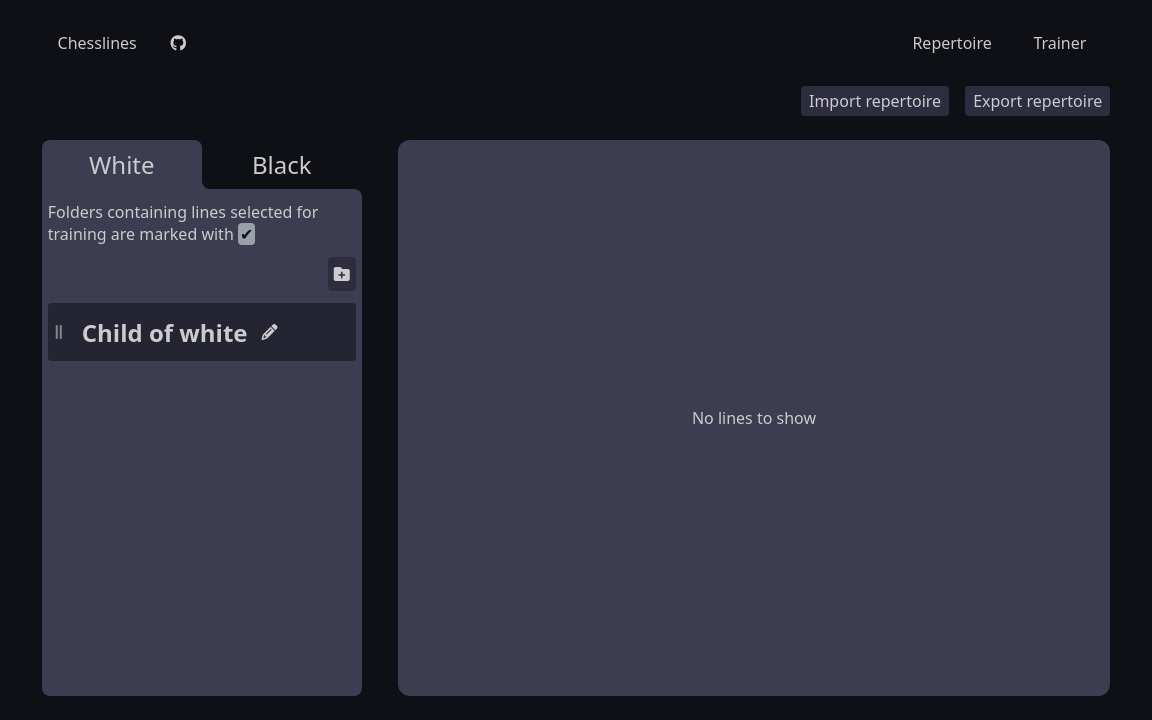
Test: Initial elements › Renders "(2)" in header trainer page link if 2 lines selected
Click the button named "open child of white folder in lines panel".
click(213, 332)  # box x1=70 y1=303 x2=356 y2=361
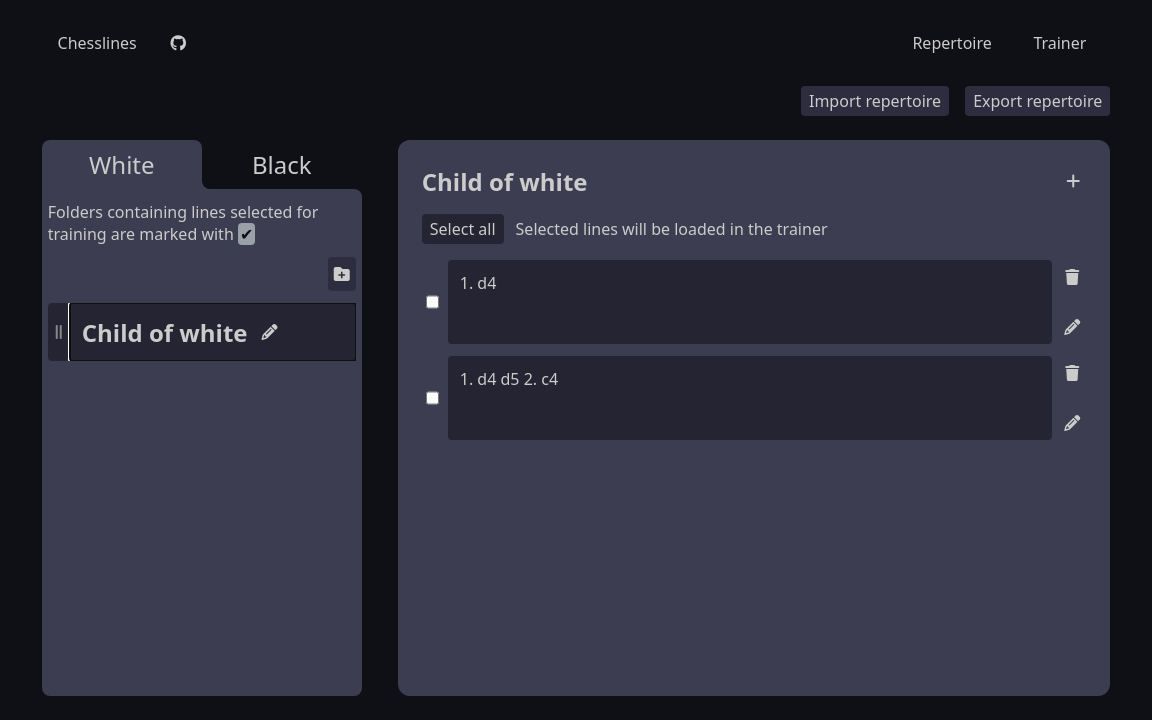
Click the checkbox next to "1. d4 d5 2. c4".
click(432, 398)  # box x1=426 y1=359 x2=439 y2=437
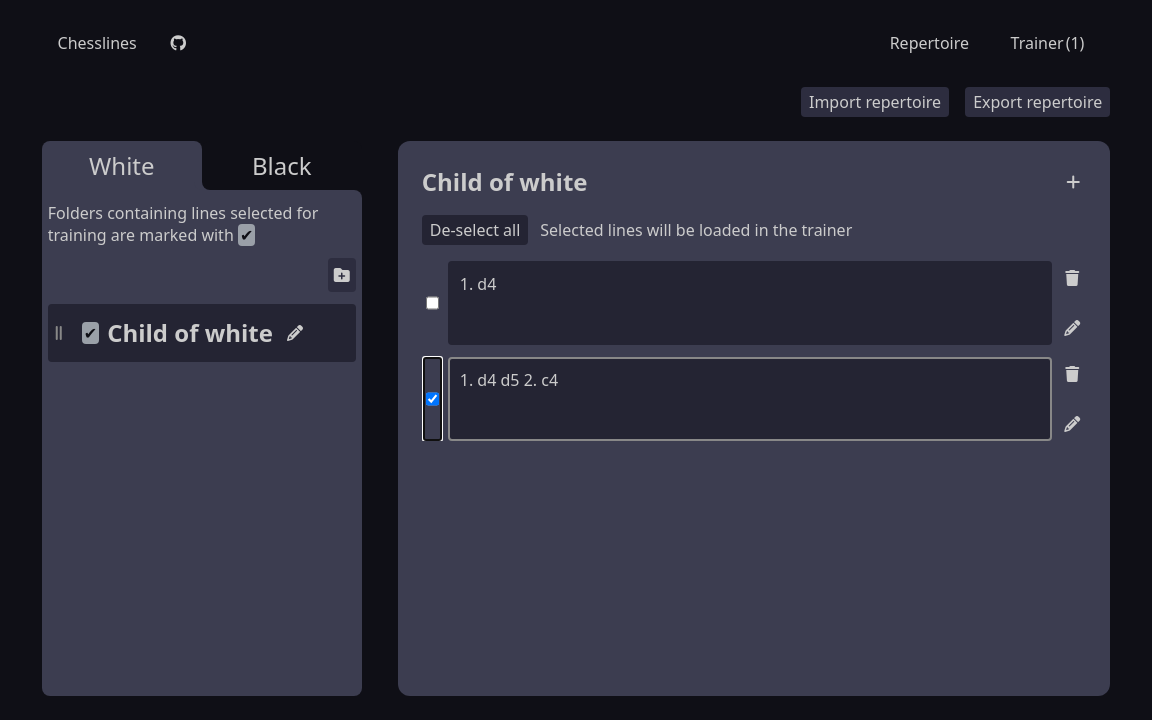
Click the 1st checkbox.
click(432, 303)  # box x1=426 y1=264 x2=439 y2=342
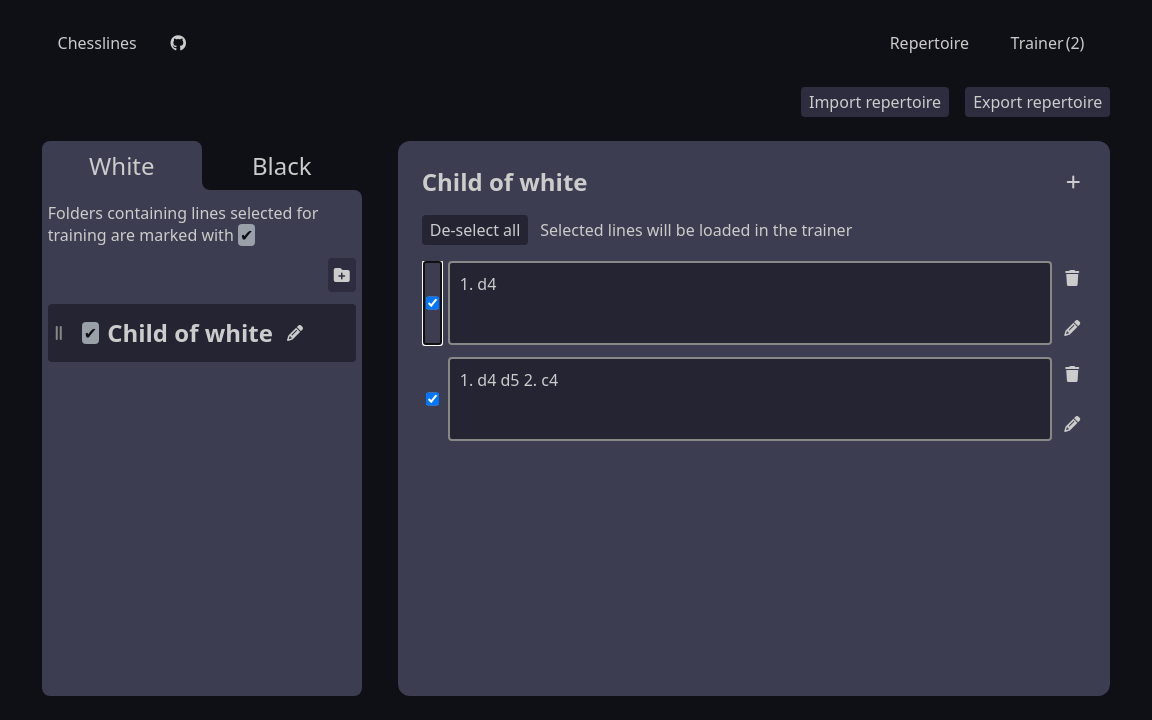
Result: the link "Trainer (2)" is shown at x1=1011 y1=32 x2=1084 y2=54
